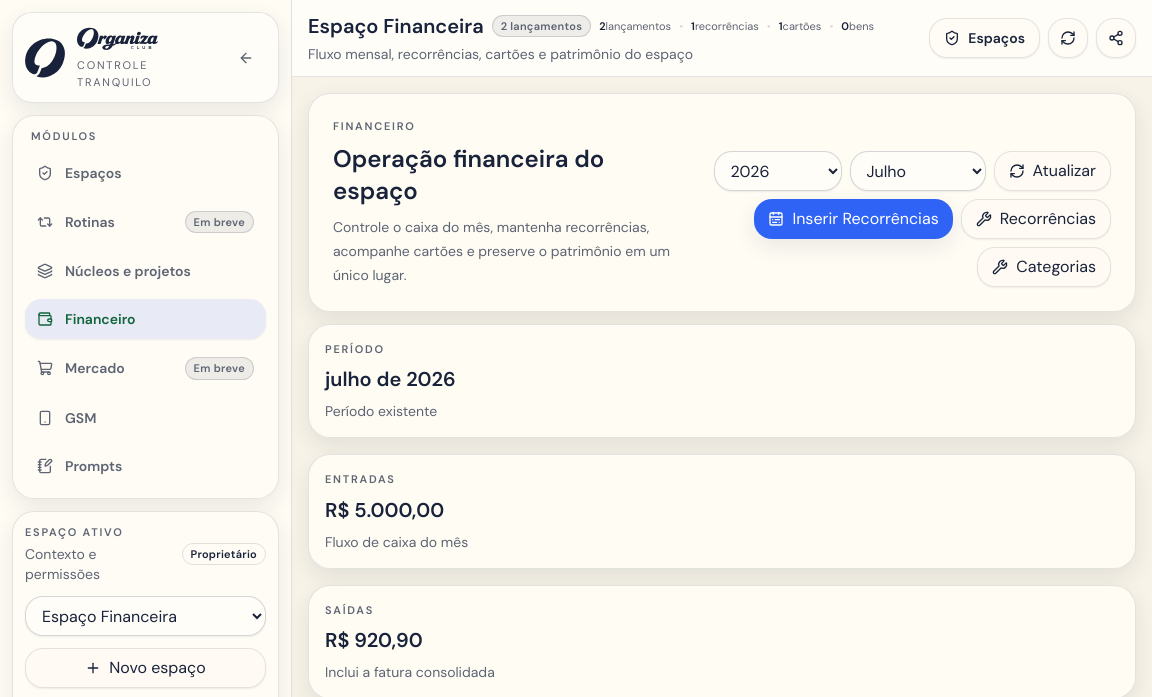
Test: FinanceDashboardWorkspace › keeps the recurring templates modal open when creating a recurring template
The width and height of the screenshot is (1152, 697).
What coordinates should you click on to do the following:
click the button "Recorrências"
I would click on:
 (1036, 218)
Its box is [961,198,1111,238].
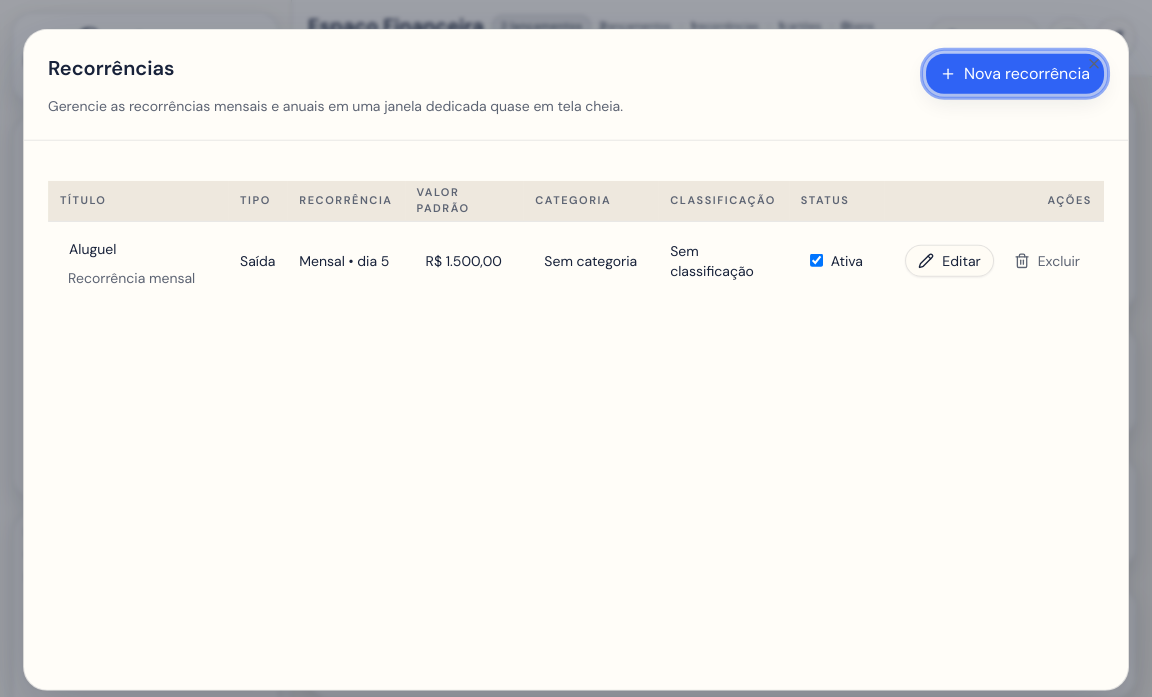
What coordinates should you click on to do the following:
click the button "Nova recorrência"
I would click on:
 (1015, 74)
Its box is [926,54,1104,94].
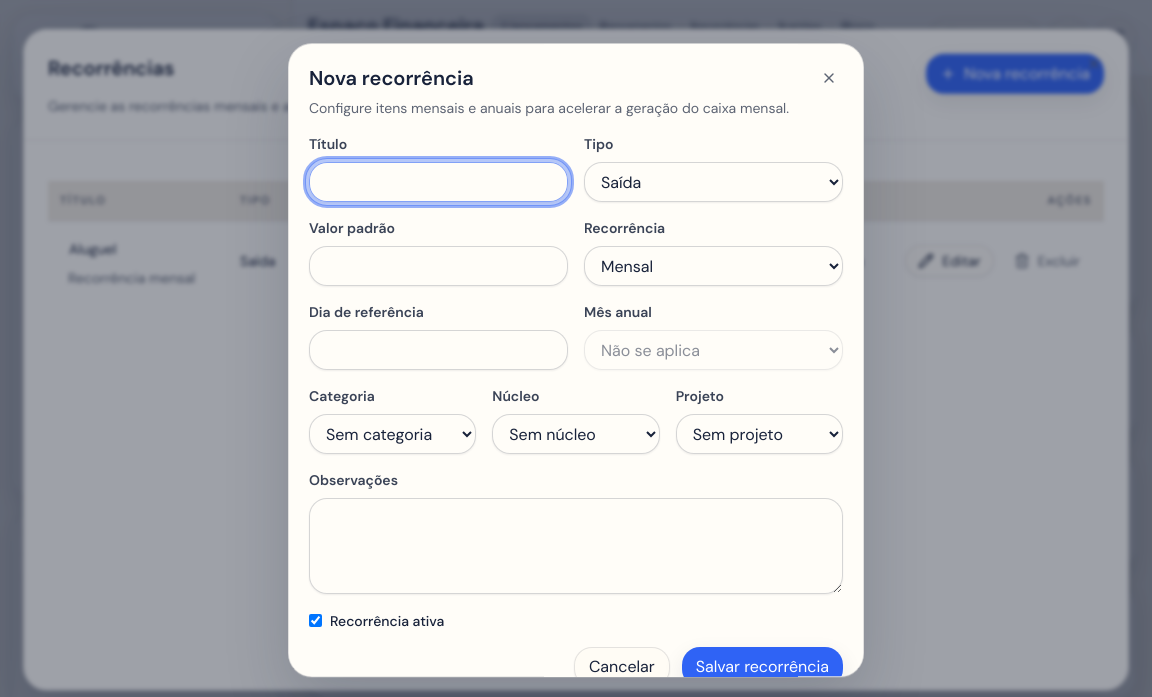
Expected: the text "Gerencie as recorrências mensais e anuais em uma janela dedicada quase em tela cheia." is shown, [48,97,623,115]
Expected: the dialog "Nova recorrência" is shown, [288,43,864,677]
